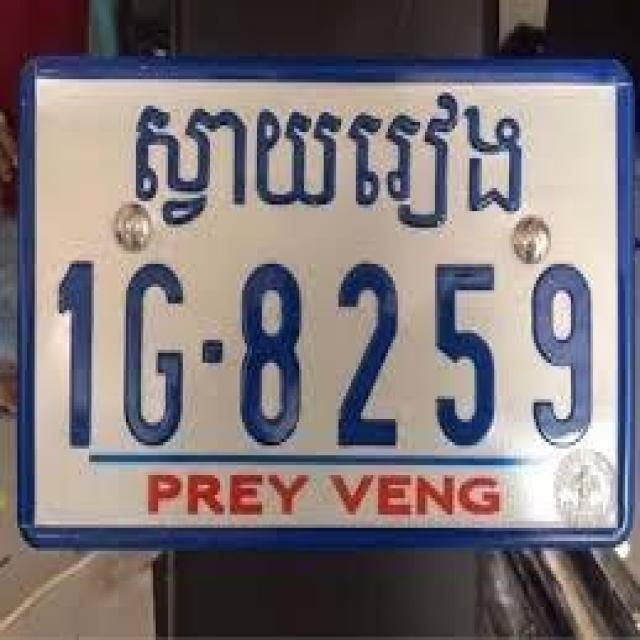Svay_Rieng: (130, 86, 530, 234)
